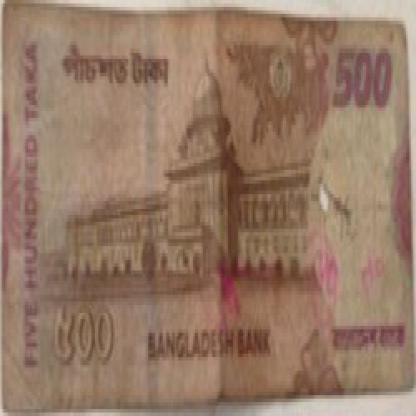500 taka: (58, 42, 181, 104), (318, 41, 399, 118), (48, 295, 118, 374)
currency: (7, 7, 411, 395)
